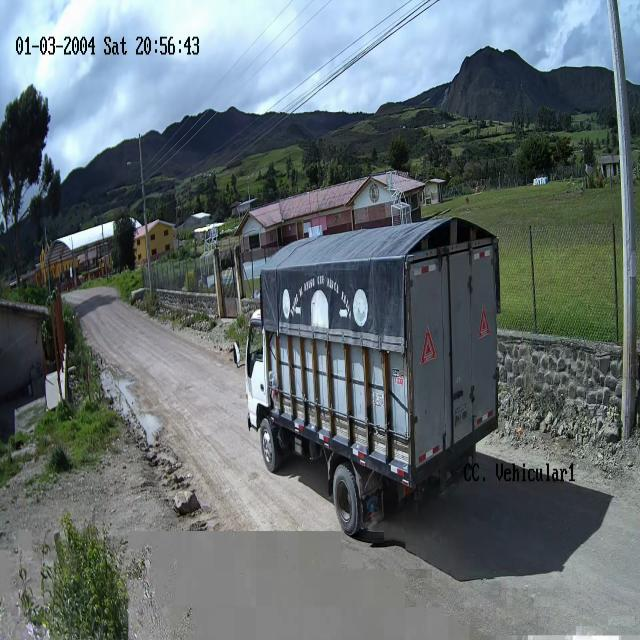TRUCK: (245, 218, 501, 542)
